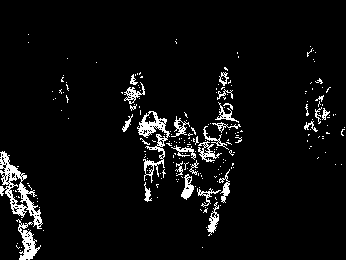person: (1, 148, 43, 260), (194, 124, 233, 238), (136, 108, 168, 206), (170, 112, 202, 190), (212, 102, 246, 163), (123, 73, 147, 135), (216, 67, 237, 115)
